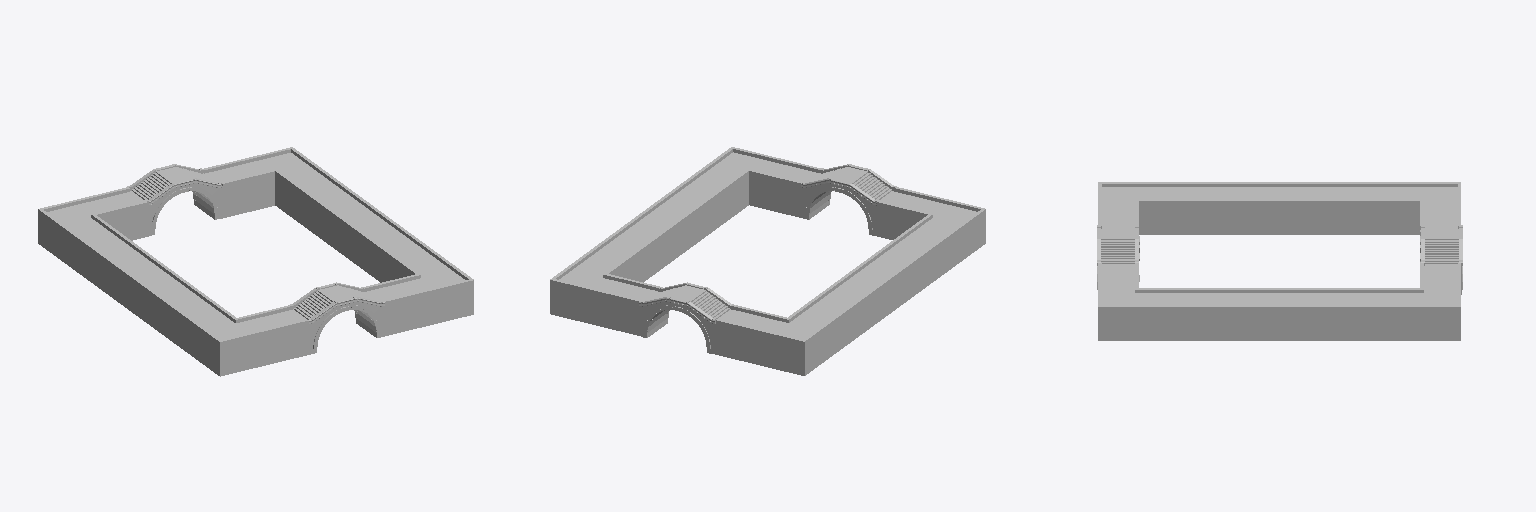
The model's file is bridge_2.obj.
3 renders of one model, left to right at view 1: azimuth 30°, elevation 25°; view 2: azimuth 150°, elevation 25°; view 3: azimuth 270°, elevation 25°, orthographic.
Visible parts, largest first — view 1: Bridge_ok.001_Untitled.018; view 2: Bridge_ok.001_Untitled.018; view 3: Bridge_ok.001_Untitled.018.
Boxes of the visible parts, <box> form: Bridge_ok.001_Untitled.018: <box>38,147,473,376</box>; Bridge_ok.001_Untitled.018: <box>550,147,985,375</box>; Bridge_ok.001_Untitled.018: <box>1097,182,1462,340</box>.
Bounding box in the file's own units: 9.06 × 1.56 × 11.3.